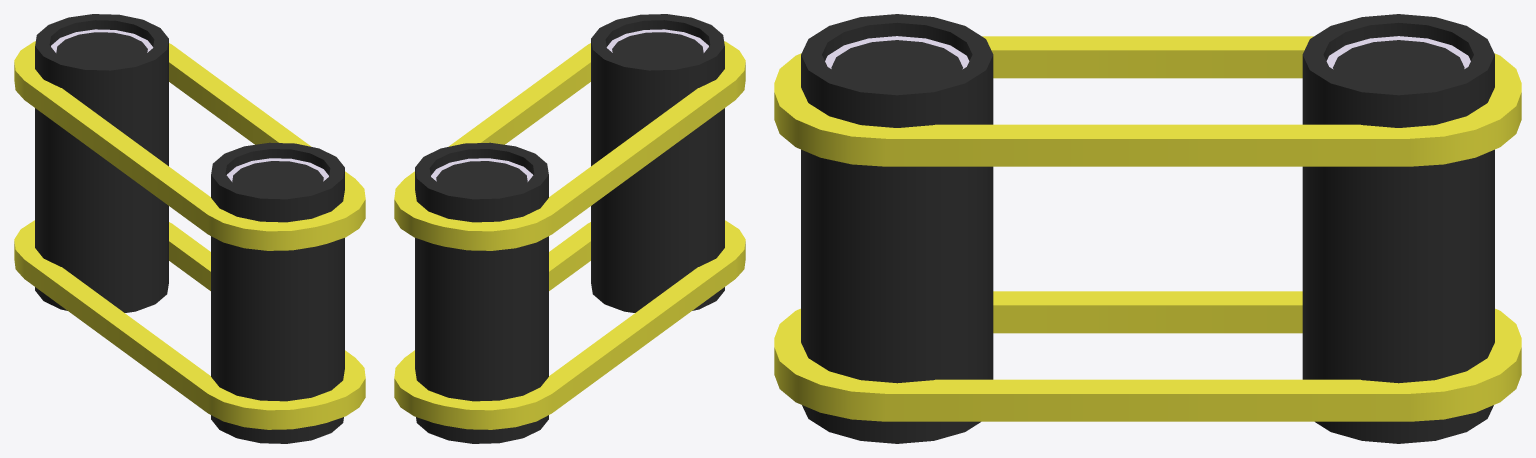
The model's file is Robot Arm 02.fbx.
The picture shows the model from 3 angles, left to right: view 1: azimuth 30°, elevation 25°; view 2: azimuth 150°, elevation 25°; view 3: azimuth 270°, elevation 25°; orthographic projection. The views are drawn at different scales.
Visible parts, largest first — view 1: Robot Arm 02; view 2: Robot Arm 02; view 3: Robot Arm 02.
Boxes of the visible parts, x1=… form: Robot Arm 02: x1=14, y1=14, x2=365, y2=443; Robot Arm 02: x1=394, y1=14, x2=745, y2=443; Robot Arm 02: x1=774, y1=14, x2=1521, y2=443.
Size of the model in its own units: 65 by 103 by 200.
